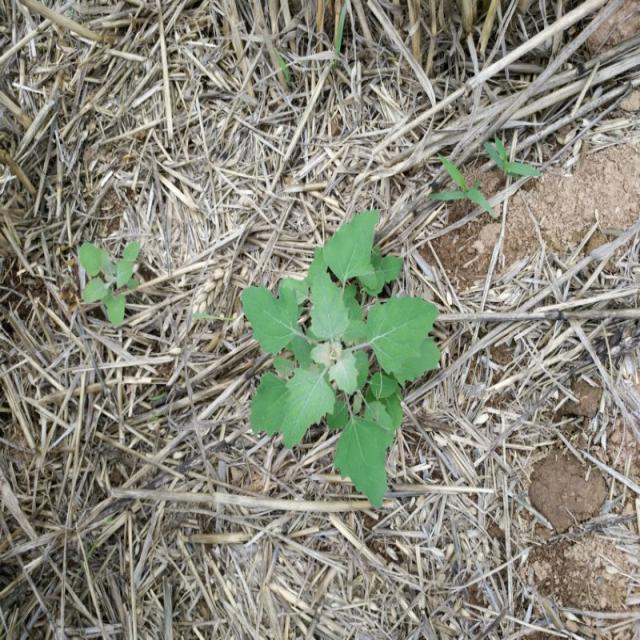ca: (240, 213, 440, 516)
